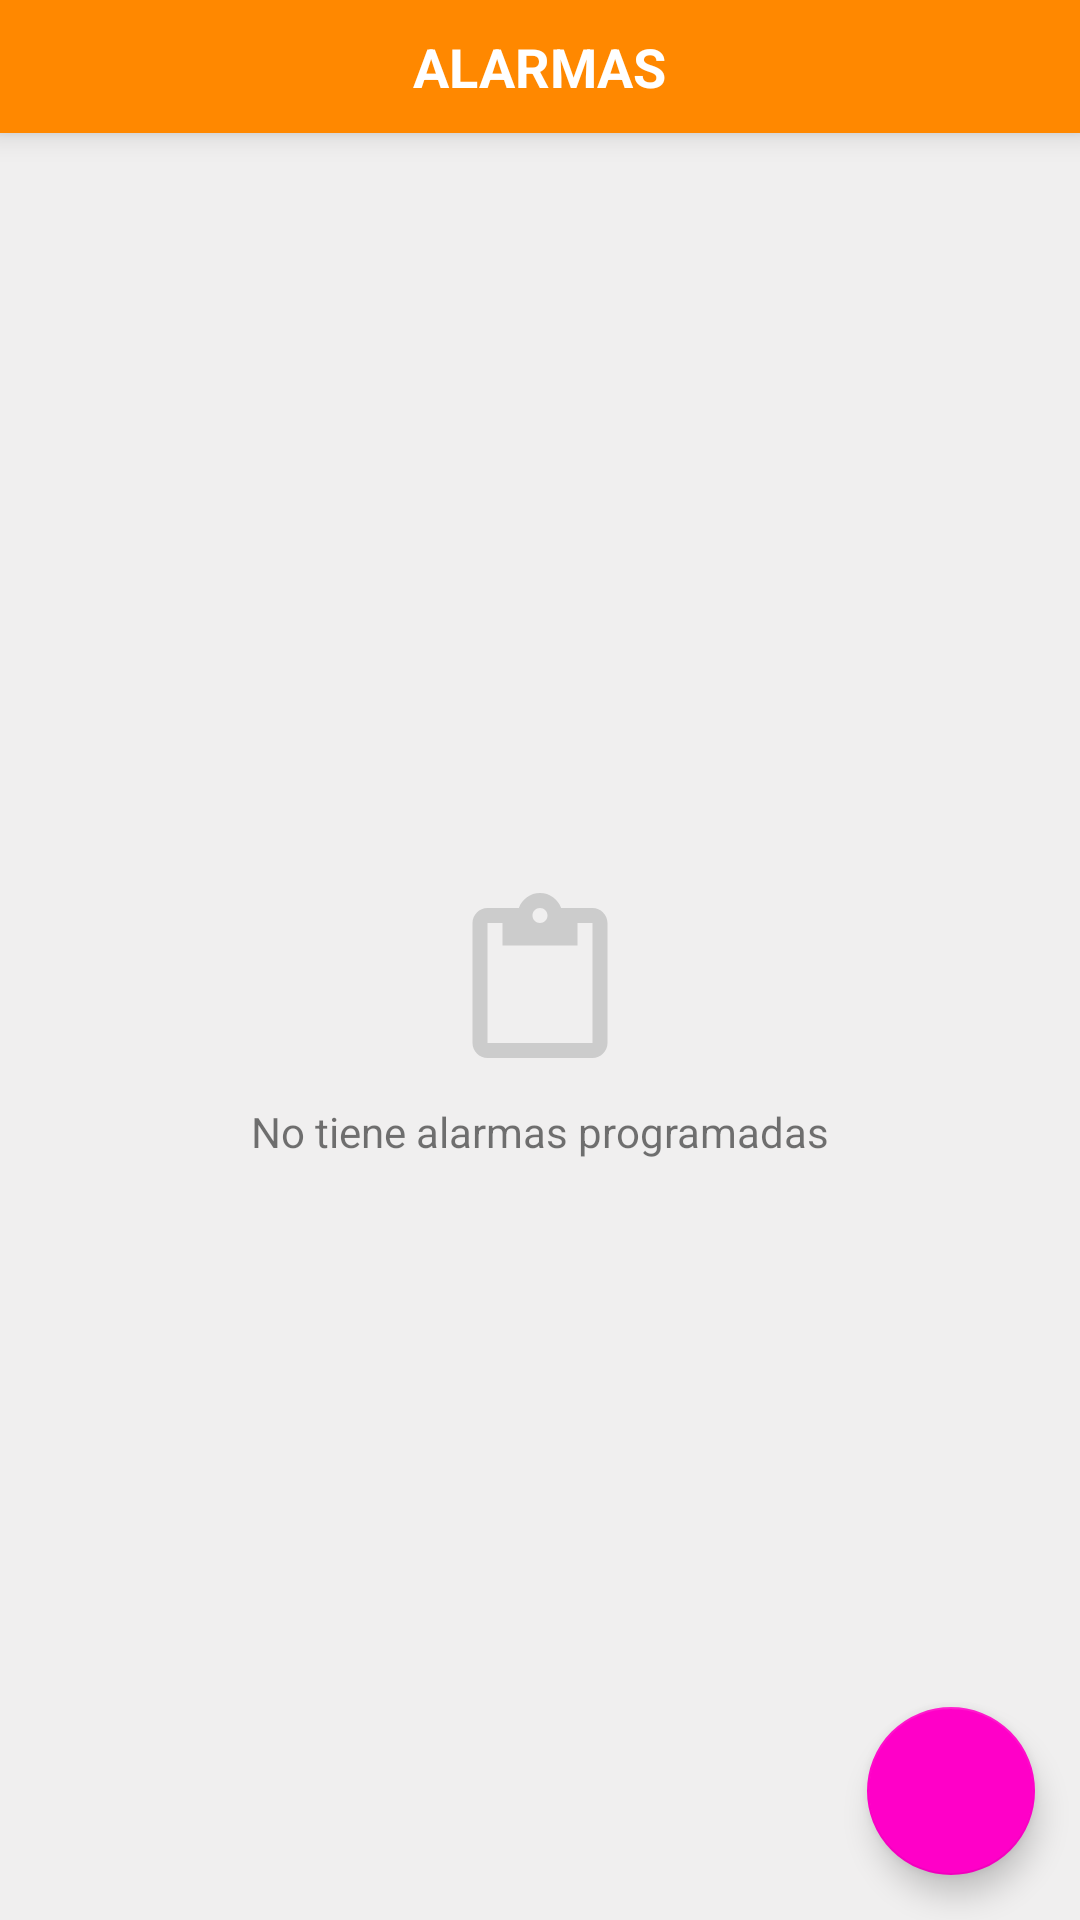

Icon bounding boxes for this 1080*1920 phone screenshot, format bbox=(x1, y1, x2, y2):
empty: bbox=(473, 893, 607, 1058)
